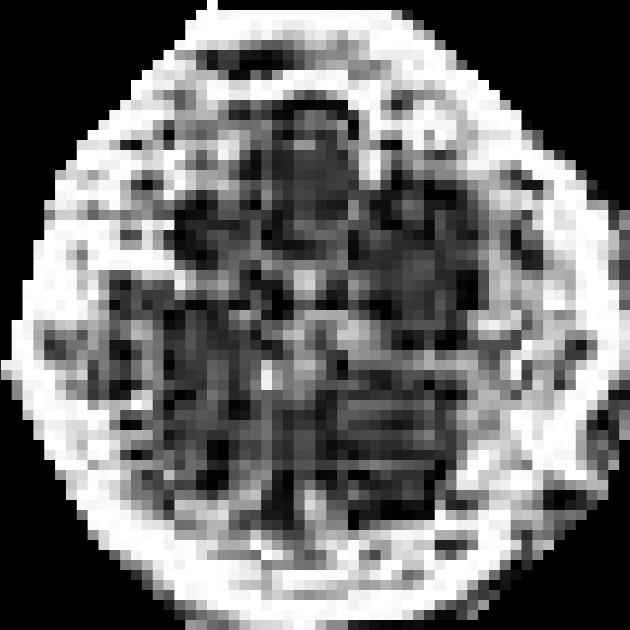tumor_good_chance: (1, 0, 630, 630)
